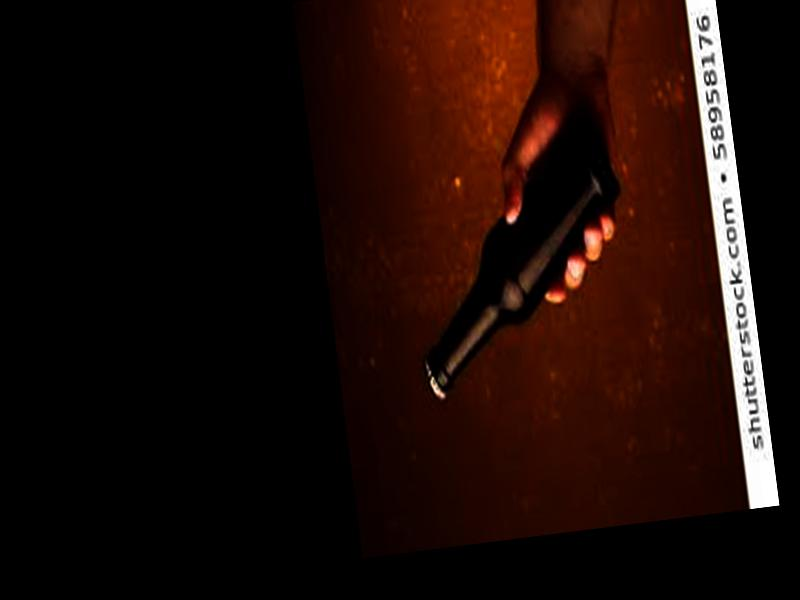Beer: (392, 100, 643, 405)
